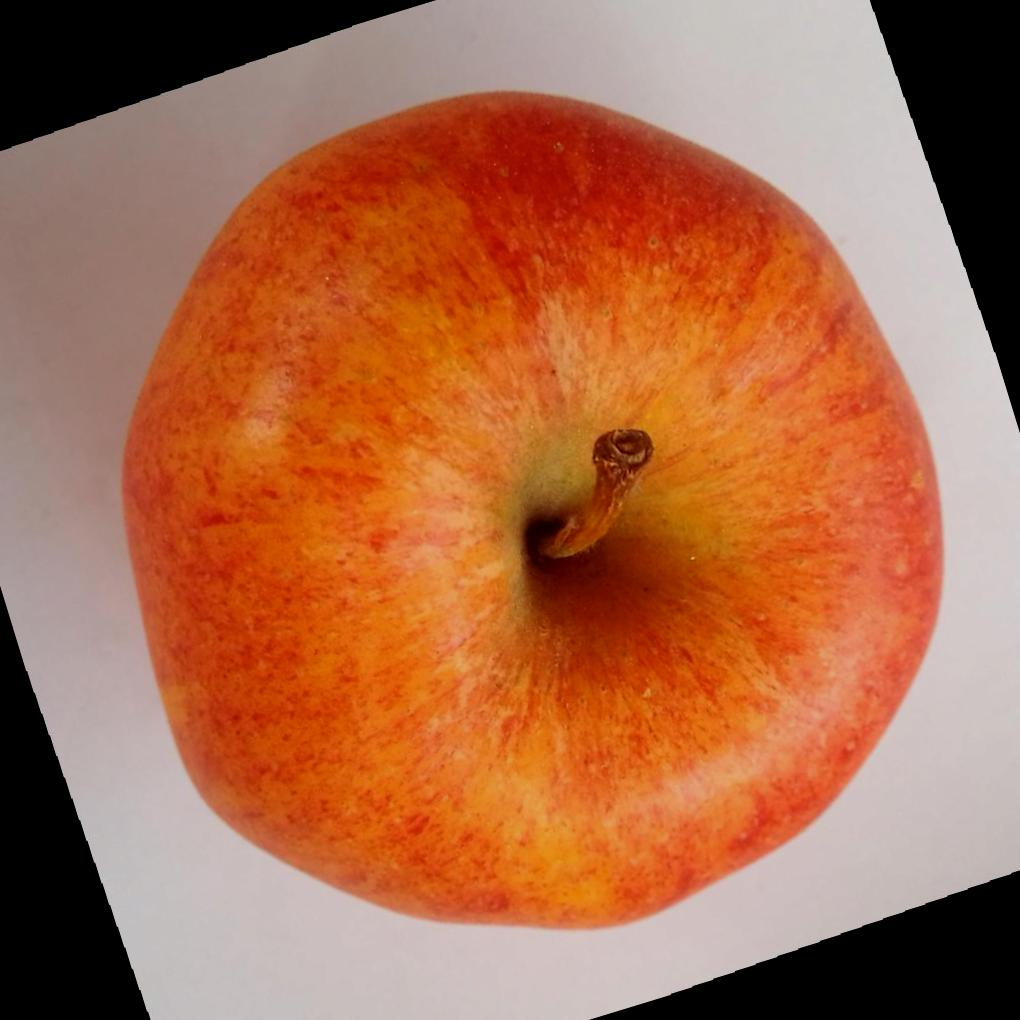FreshGuava: (120, 91, 948, 935)
